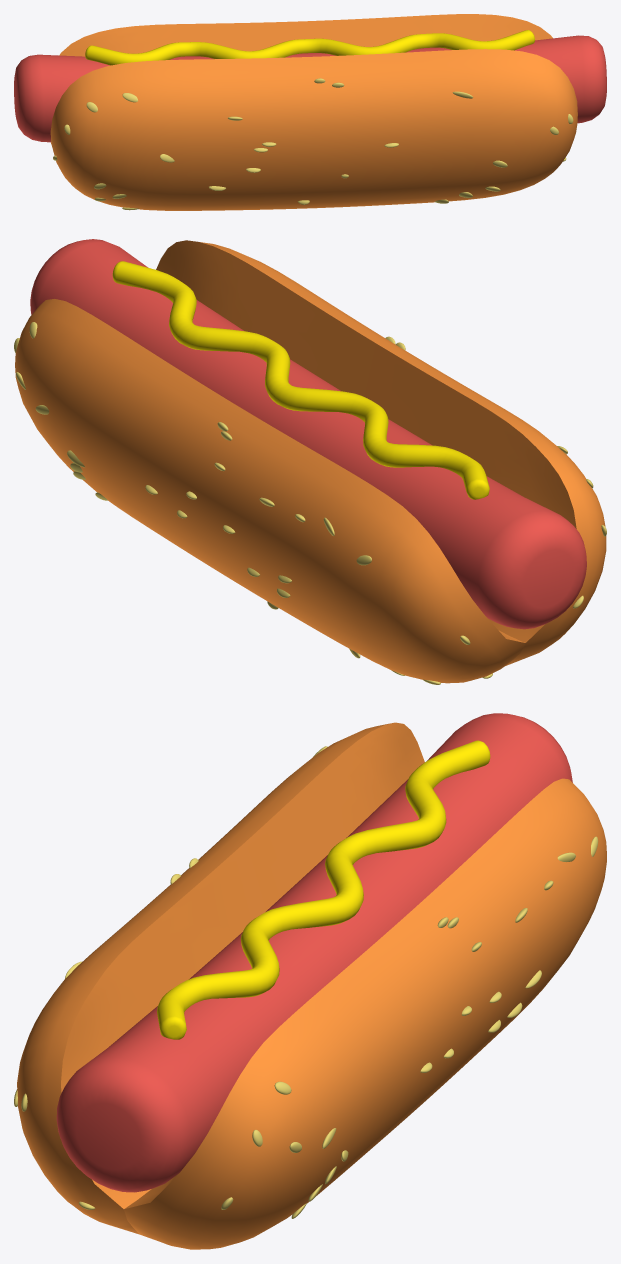
Rendered from low-poly_cartoony_hot_dog.glb.
3 views of the same model, one above another, from view 1: azimuth 30°, elevation 25°; view 2: azimuth 150°, elevation 25°; view 3: azimuth 270°, elevation 25° (orthographic). The views are drawn at different scales.
Parts seen in each view (by area): view 1: Cube, Cylinder, Cylinder.001; view 2: Cube, Cylinder, Cylinder.001; view 3: Cube, Cylinder, Cylinder.001.
Boxes of the visible parts, x1,y1,x2,y2 form: Cube: (50, 14, 577, 210); Cylinder: (14, 35, 606, 142); Cylinder.001: (85, 30, 534, 65); Cube: (15, 240, 606, 683); Cylinder: (30, 239, 586, 629); Cylinder.001: (112, 261, 489, 499); Cube: (17, 722, 606, 1249); Cylinder: (56, 713, 572, 1192); Cylinder.001: (157, 740, 490, 1039).
Bounding box in the file's own units: 6.02 × 1.98 × 3.91.
